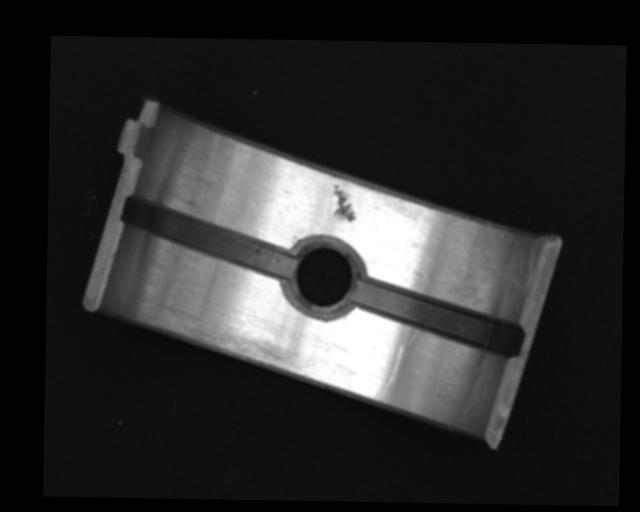bruise: (331, 182, 356, 223)
gap: (124, 194, 294, 281), (353, 280, 524, 356)
hole: (282, 238, 367, 316)
nick: (373, 345, 402, 403)
scratch: (144, 299, 360, 389)
